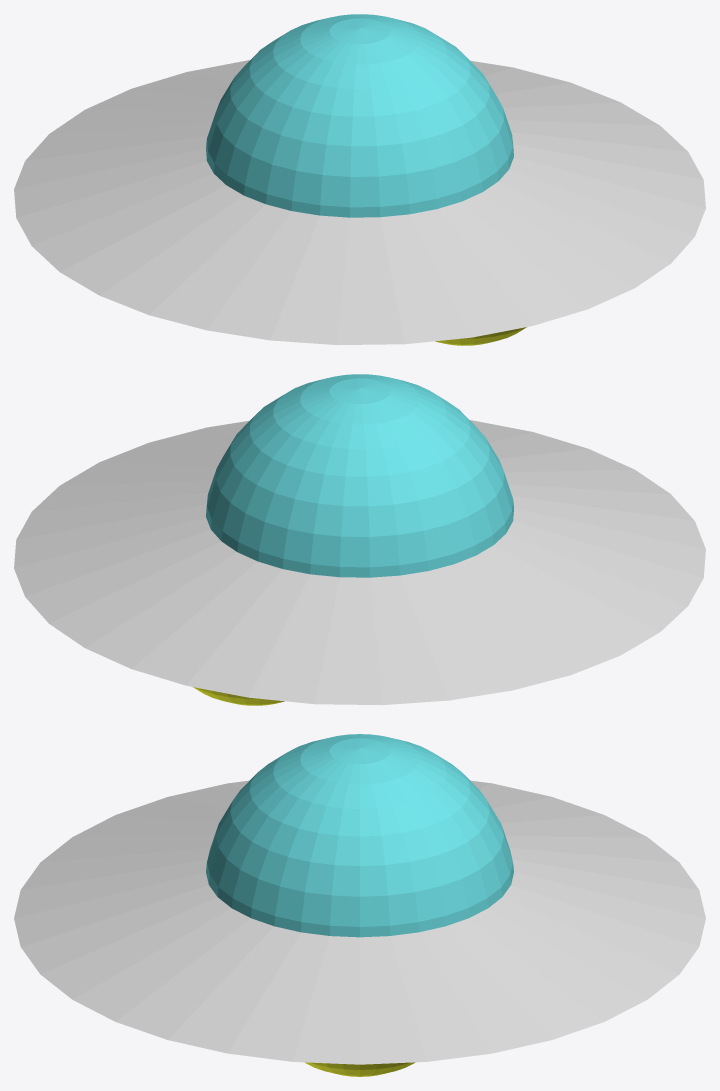
The model's file is ufo.fbx.
3 views of the same model, one above another, from view 1: azimuth 30°, elevation 25°; view 2: azimuth 150°, elevation 25°; view 3: azimuth 270°, elevation 25° (orthographic).
Visible parts, largest first — view 1: 円錐, 球, 球.001; view 2: 円錐, 球, 球.004; view 3: 円錐, 球, 球.002.
Boxes of the visible parts, x1,y1,x2,y2 form: 円錐: [14, 60, 705, 345]; 球: [206, 14, 513, 217]; 球.001: [435, 327, 526, 345]; 円錐: [14, 420, 705, 705]; 球: [206, 374, 513, 577]; 球.004: [193, 687, 284, 705]; 円錐: [14, 780, 705, 1064]; 球: [206, 734, 513, 937]; 球.002: [305, 1062, 414, 1076].
Bounding box in the file's own units: 595 × 217 × 595.
